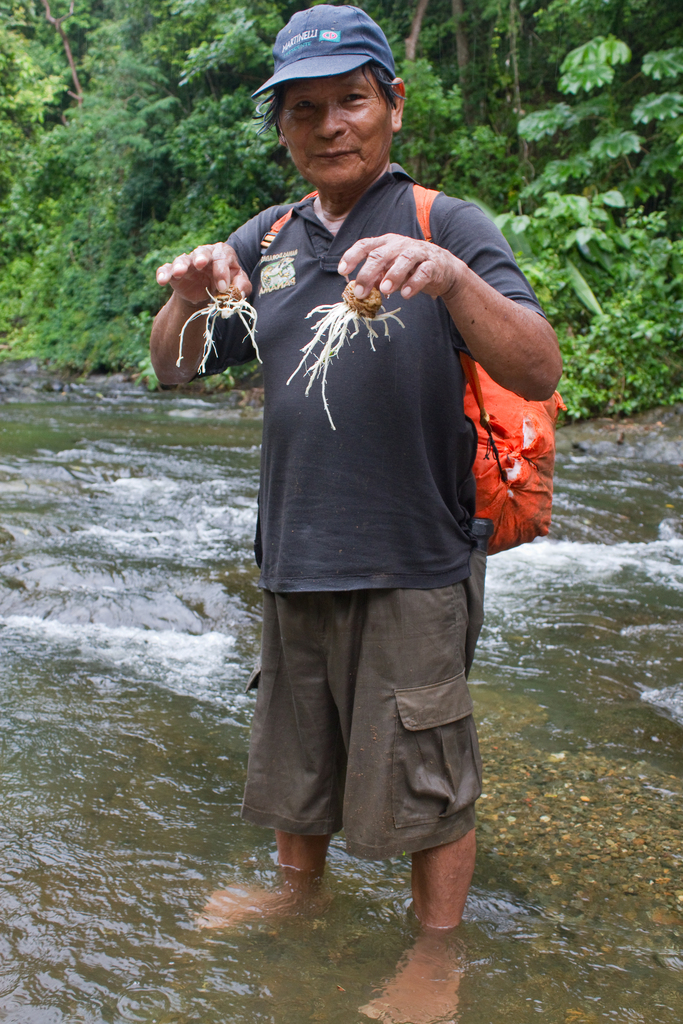Person: (149, 4, 562, 1024)
